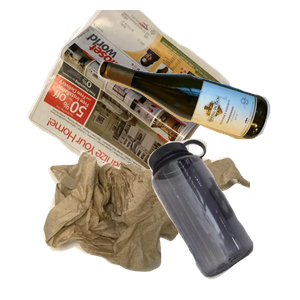glass: (95, 57, 300, 189)
paper: (23, 10, 245, 190)
plastic: (145, 136, 300, 300)
trash: (40, 138, 280, 300)
